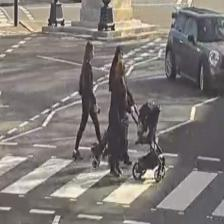person: (72, 41, 109, 162), (108, 46, 134, 166), (109, 58, 133, 176)
